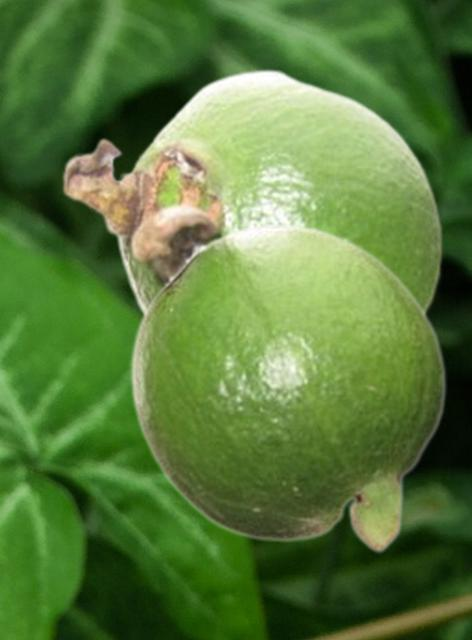guava: (128, 221, 446, 554), (60, 67, 445, 316)
